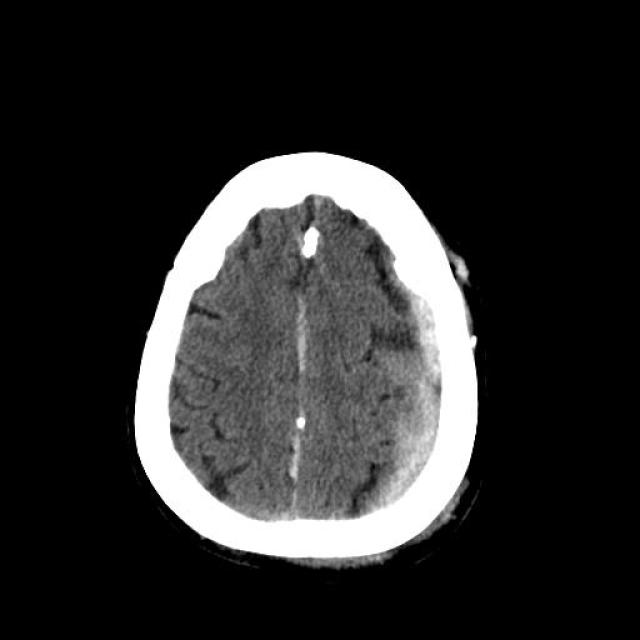Subdural: (372, 256, 452, 545)
